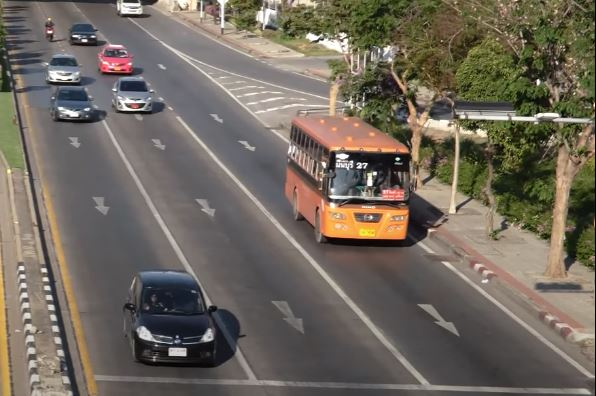Bus: (283, 113, 409, 245)
Car: (123, 268, 217, 366), (47, 85, 94, 123), (112, 75, 152, 114), (97, 42, 134, 77), (44, 52, 82, 83), (68, 23, 97, 46), (115, 1, 143, 17)
Motorcycle: (44, 17, 56, 42)
